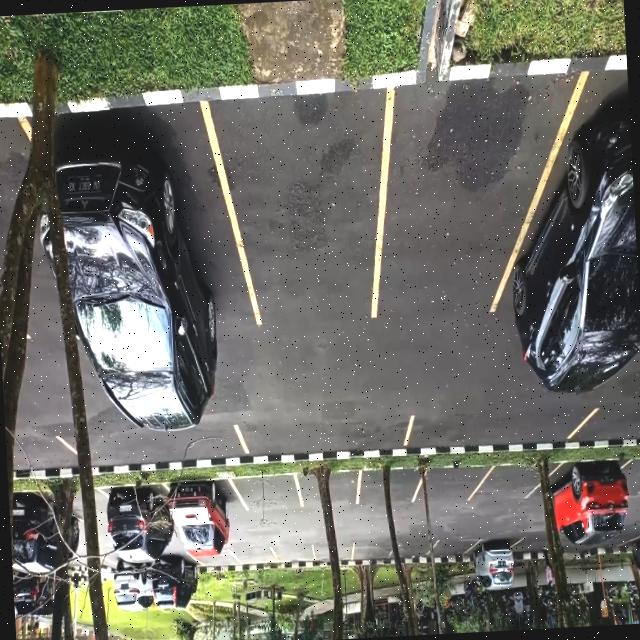empty: (227, 89, 392, 337), (379, 85, 522, 331), (404, 406, 594, 460), (235, 414, 413, 464), (298, 469, 363, 517), (234, 474, 304, 518), (358, 468, 423, 512), (479, 465, 541, 506), (420, 466, 480, 508), (430, 536, 474, 574), (273, 542, 317, 576), (351, 540, 394, 571), (232, 546, 276, 576)
occupied: (61, 103, 240, 371), (510, 85, 640, 369), (554, 458, 632, 528), (166, 480, 240, 548), (470, 536, 520, 582)
